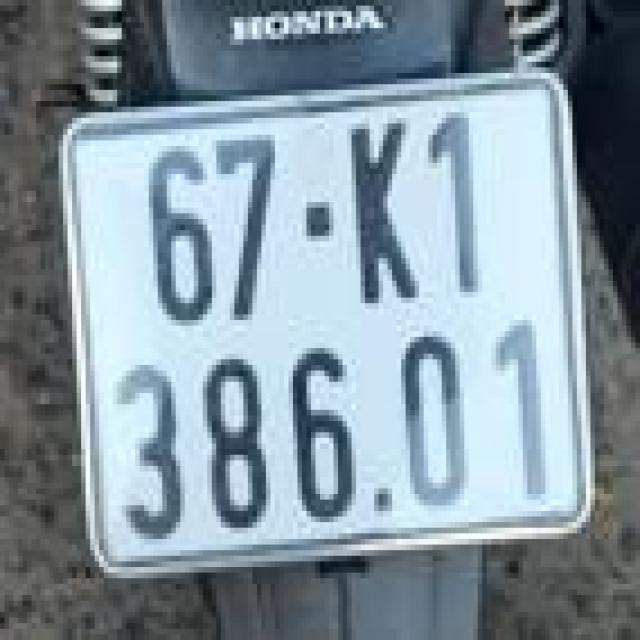0: (390, 320, 466, 516)
1: (489, 297, 561, 511), (424, 106, 491, 298)
3: (113, 356, 189, 542)
6: (280, 334, 370, 531), (126, 135, 221, 320)
7: (214, 129, 286, 331)
8: (192, 340, 277, 536)
K: (338, 113, 419, 314)
